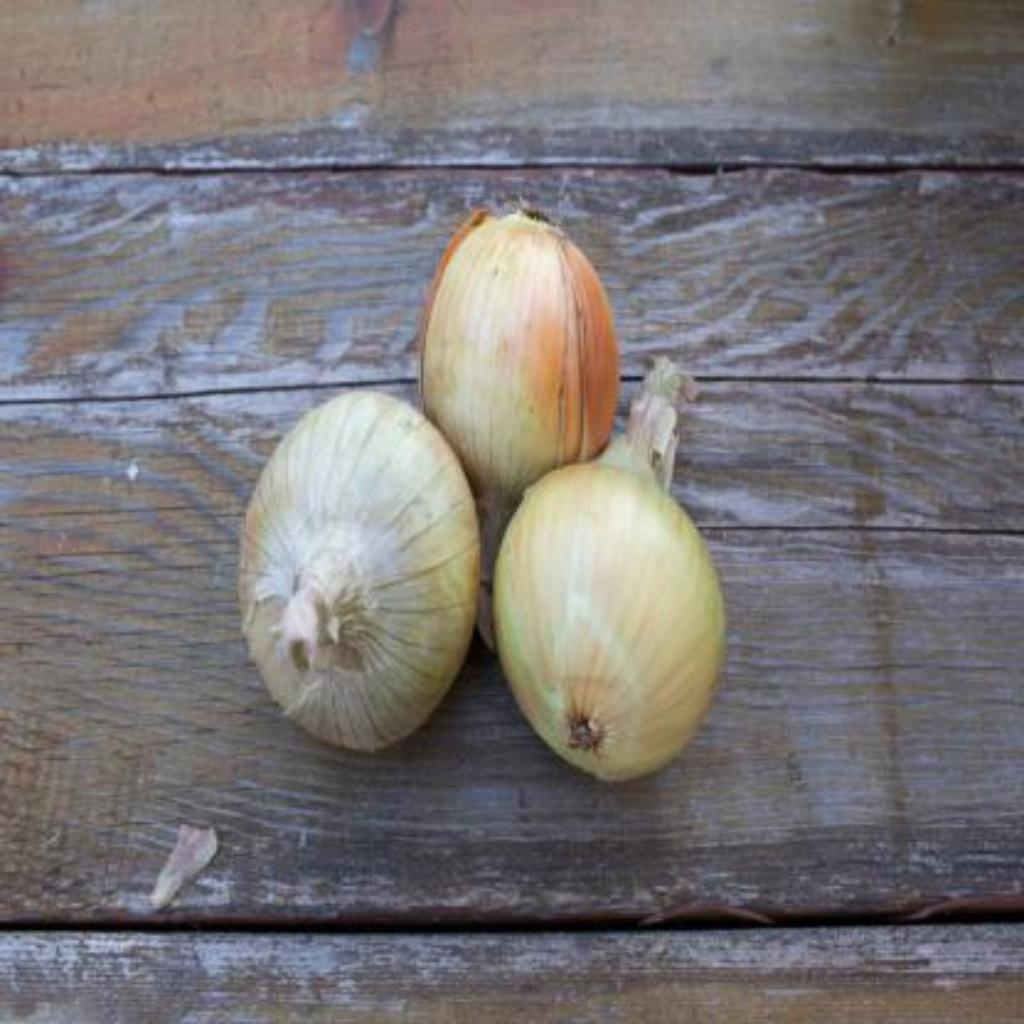Onion: (495, 359, 726, 783), (239, 391, 480, 752), (421, 212, 620, 506)
